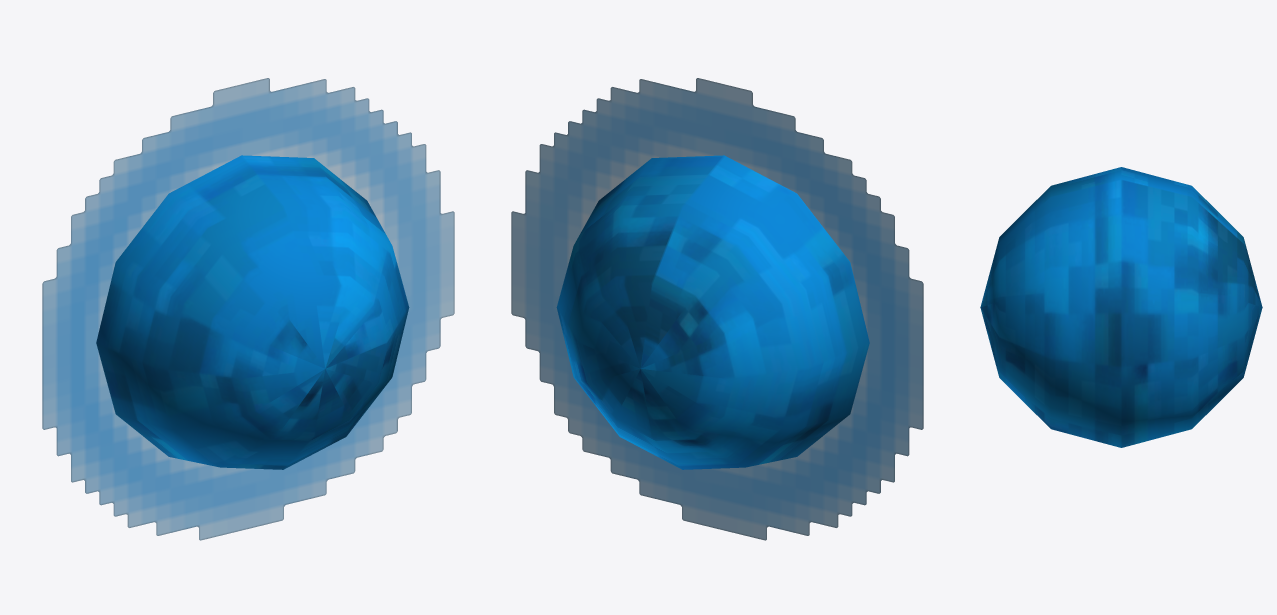
The model's file is Bonus (2).fbx.
3 views of the same model, side by side, from view 1: azimuth 30°, elevation 25°; view 2: azimuth 150°, elevation 25°; view 3: azimuth 270°, elevation 25° (orthographic). The views are drawn at different scales.
Parts seen in each view (by area): view 1: Bonus (2), ChargeEffect; view 2: Bonus (2), ChargeEffect; view 3: Bonus (2).
Part boxes in pixels (x1=…): Bonus (2): x1=96, y1=155, x2=409, y2=469; ChargeEffect: x1=42, y1=78, x2=454, y2=540; Bonus (2): x1=556, y1=155, x2=869, y2=469; ChargeEffect: x1=511, y1=78, x2=923, y2=540; Bonus (2): x1=980, y1=167, x2=1262, y2=447.
Bounding box in the file's own units: 5.6 × 5.6 × 3.58.
Materials: 2 (2 with a texture image).
